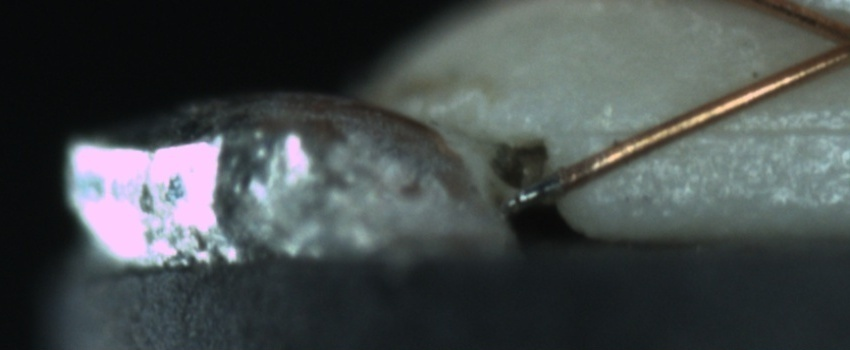CL: (803, 9, 850, 77)
DL: (601, 99, 850, 162)
TS: (508, 173, 564, 208)
